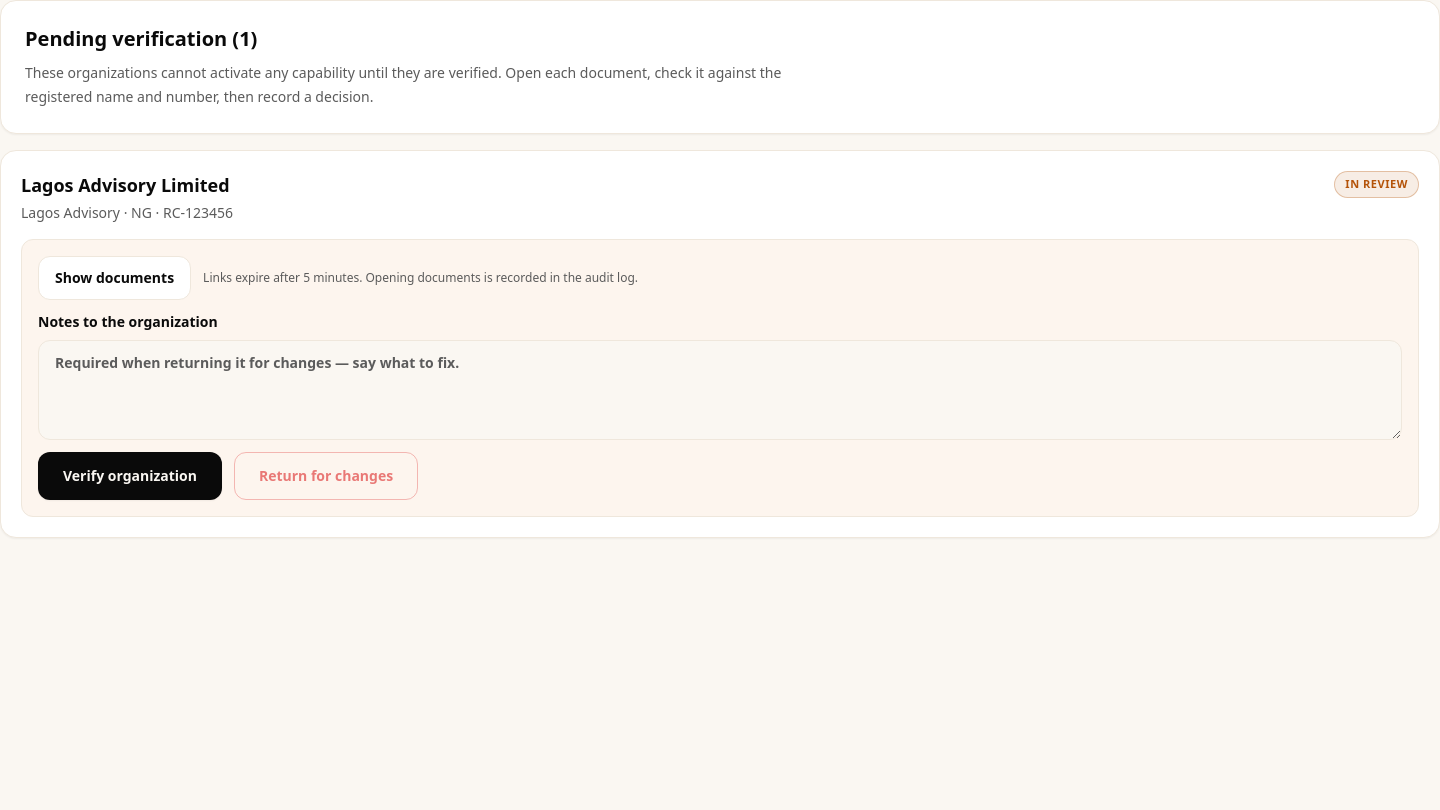
Test: AdminOrgVerificationQueue › shows the described error when a verdict is refused
This screenshot has width=1440, height=810.
Click the button "Verify organization".
click(130, 476)  # box [38,452,222,500]
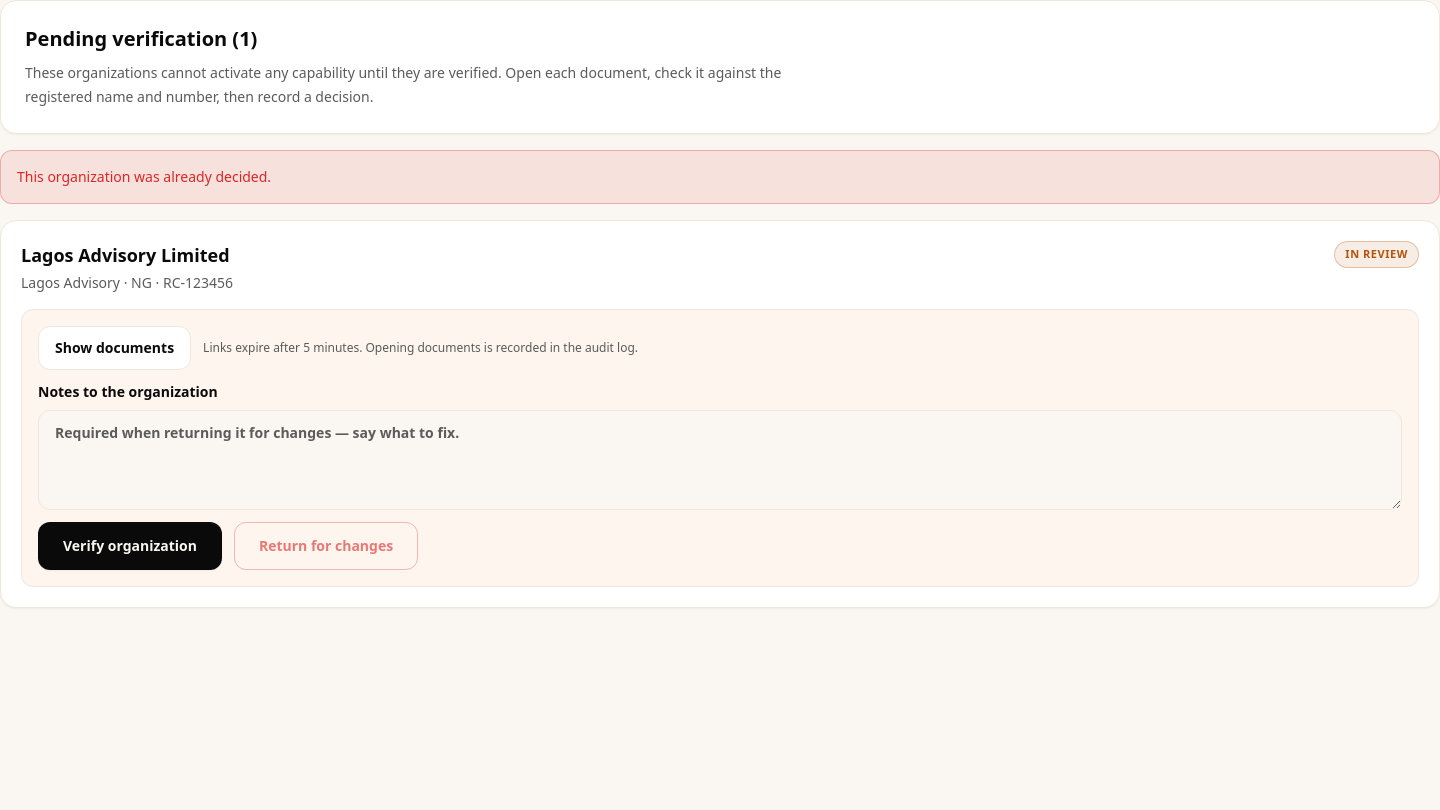
Expected: the text "This organization was already decided." is shown, [0,150,1439,204]
